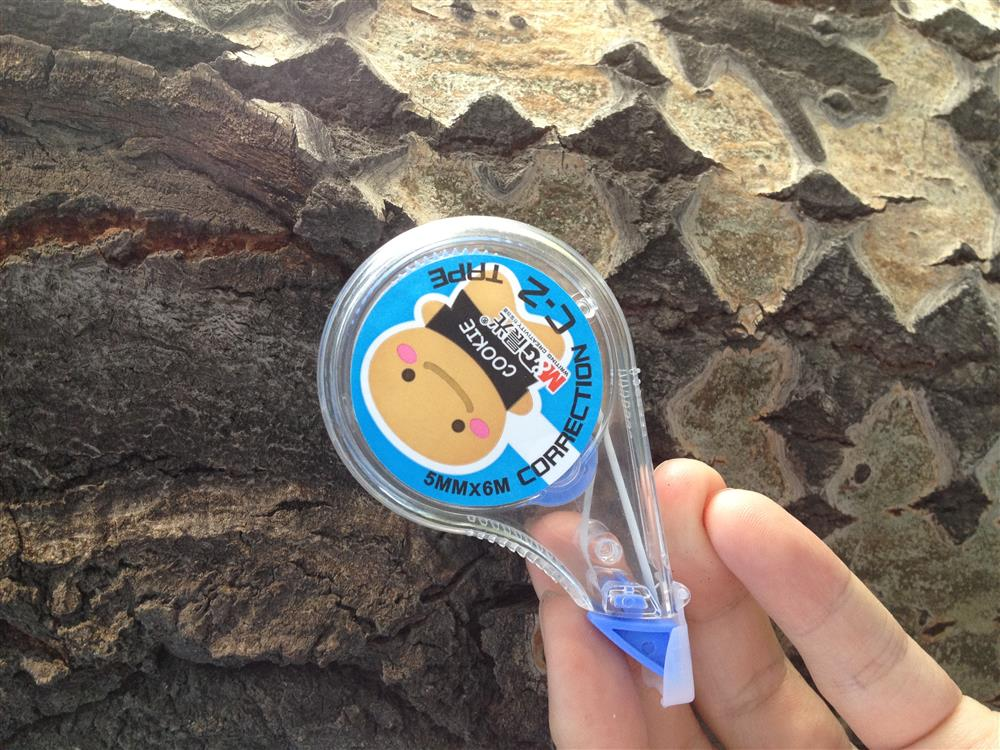correction_tape: (313, 214, 696, 707)
